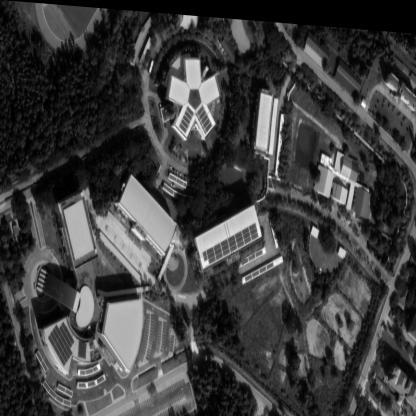solar-pv-panel: (202, 219, 259, 261), (48, 321, 74, 365), (43, 380, 71, 405), (245, 258, 274, 277), (195, 102, 212, 131), (179, 103, 194, 131), (241, 246, 263, 261), (78, 374, 105, 386), (36, 351, 48, 371), (169, 172, 186, 184), (80, 364, 98, 374), (58, 384, 72, 395), (163, 181, 174, 192)
